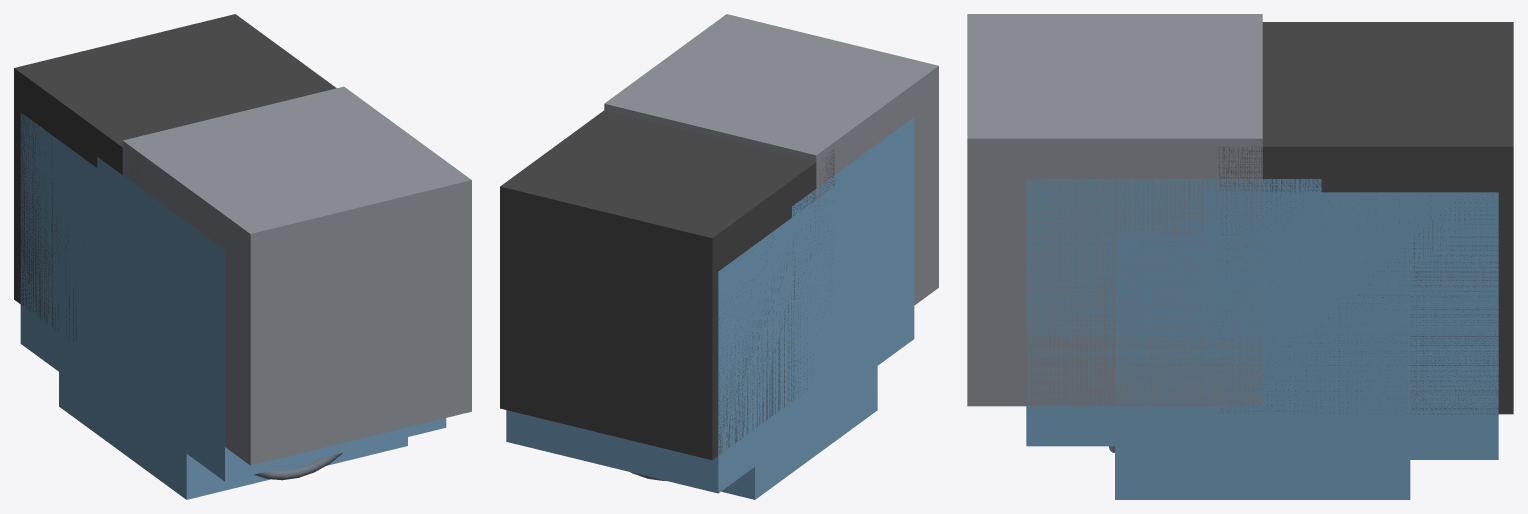
The model's file is veh_bicycle_blue.glb.
3 renders of one model, left to right at view 1: azimuth 30°, elevation 25°; view 2: azimuth 150°, elevation 25°; view 3: azimuth 270°, elevation 25°, orthographic. The views are drawn at different scales.
Parts seen in each view (by area): view 1: world; view 2: world; view 3: world.
Part boxes in pixels (x1,y1,x2,y2): world: [14, 14, 471, 499]; world: [500, 14, 938, 499]; world: [967, 14, 1513, 499].
Size of the model in its own units: 1 by 1.37 by 1.85.
